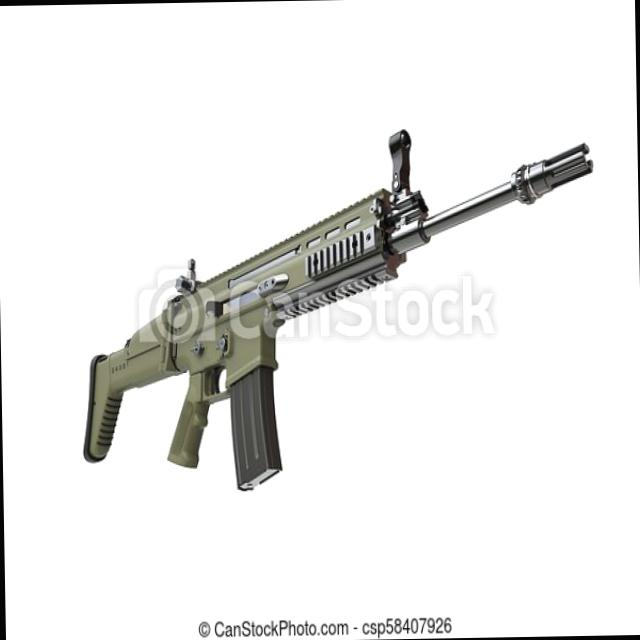long weapon: (72, 116, 588, 494)
